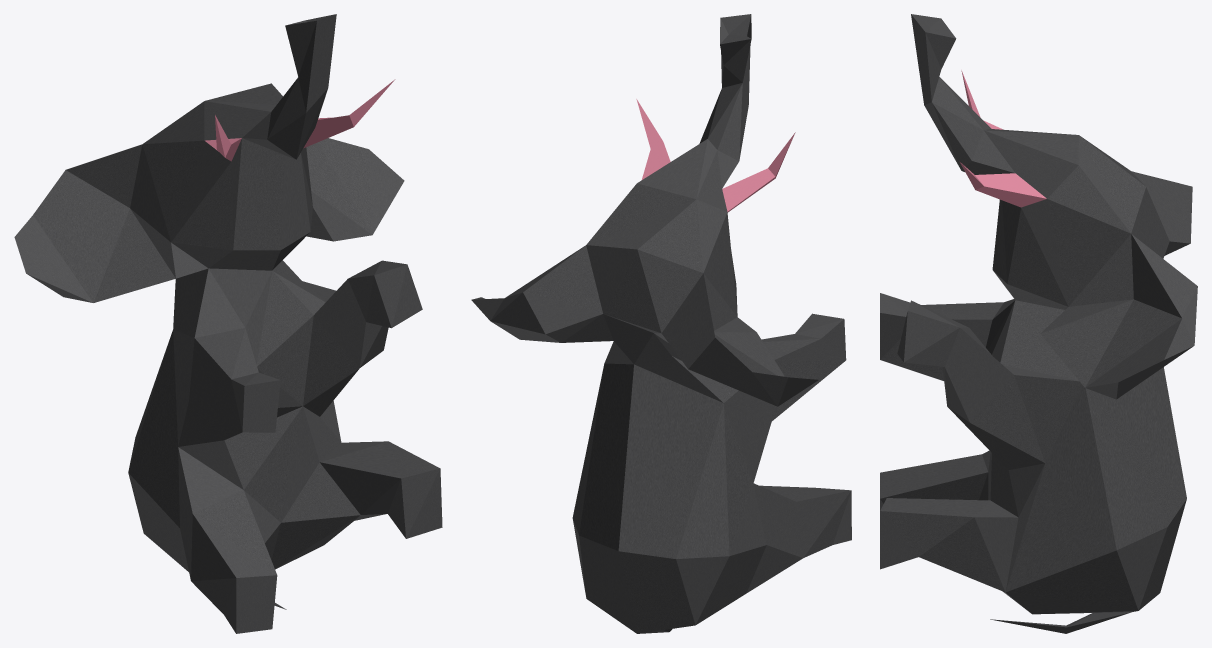
Rendered from pink_symbol_elephant.FBX.
3 renders of one model, left to right at view 1: azimuth 30°, elevation 25°; view 2: azimuth 150°, elevation 25°; view 3: azimuth 270°, elevation 25°, orthographic. The views are drawn at different scales.
Parts seen in each view (by area): view 1: Cylinder.003; view 2: Cylinder.003; view 3: Cylinder.003.
Part boxes in pixels (x1,y1,x2,y2): Cylinder.003: (14, 14, 442, 633); Cylinder.003: (471, 14, 851, 633); Cylinder.003: (880, 14, 1197, 633).
Bounding box in the file's own units: 255 × 410 × 192.
